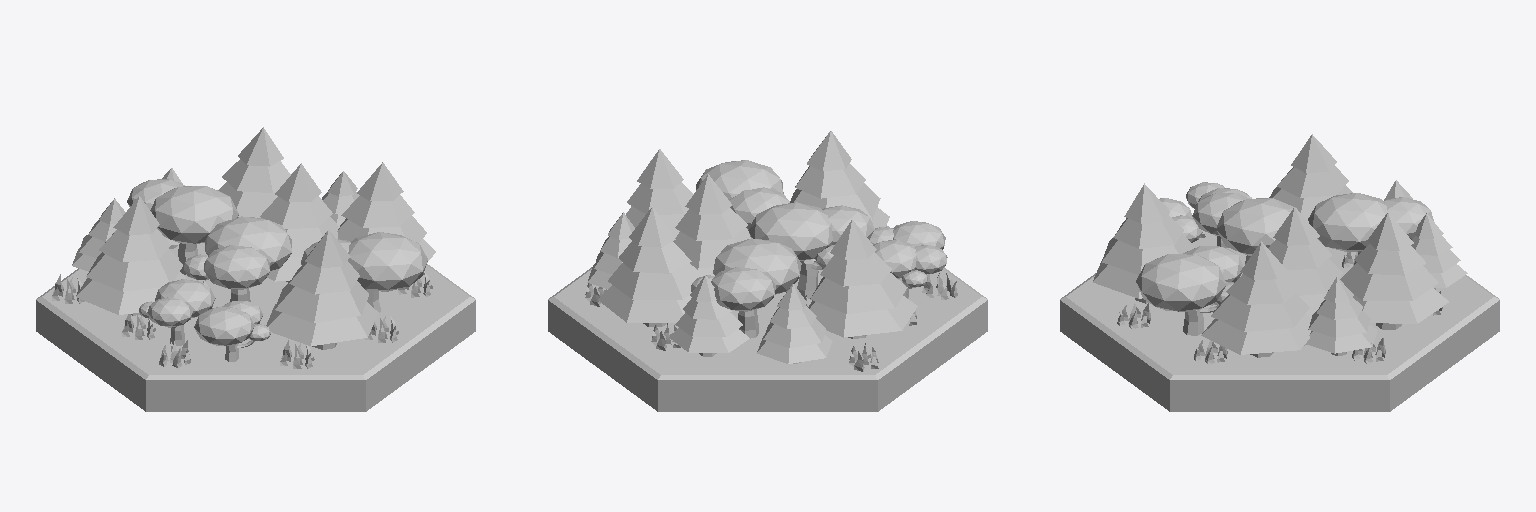
Rendered from forest2.obj.
The picture shows the model from 3 angles: view 1: azimuth 30°, elevation 25°; view 2: azimuth 150°, elevation 25°; view 3: azimuth 270°, elevation 25°; orthographic projection.
Parts seen in each view (by area): view 1: Forest_Tile, Tree_0_1.002, Tree_0_1.001, Tree_1_1.001, Tree_1_1, Tree_1_1.002, Tree_0_1.004, Tree_0_1.003, Tree_0_1, Tree_1_0.001, Tree_1_0, Tree_0_0.002 (+1 smaller); view 2: Forest_Tile, Tree_0_1.001, Tree_0_1, Tree_1_1, Tree_1_1.001, Tree_0_1.002, Tree_0_1.004, Tree_0_0.002, Tree_0_0.001, Tree_1_1.002, Tree_0_1.003, Tree_1_0 (+2 smaller); view 3: Forest_Tile, Tree_0_1.003, Tree_0_1, Tree_1_1.002, Tree_0_1.002, Tree_1_1, Tree_1_1.001, Tree_0_1.004, Tree_0_0, Tree_0_1.001, Tree_0_0.001, Tree_1_0.001 (+1 smaller).
Part boxes in pixels (x1,y1,x2,y2): Forest_Tile: (36,243,475,411); Tree_0_1.002: (266,230,378,349); Tree_0_1.001: (76,196,187,315); Tree_1_1.001: (184,216,291,301); Tree_1_1: (127,179,238,274); Tree_1_1.002: (301,232,427,312); Tree_0_1.004: (260,163,339,282); Tree_0_1.003: (337,162,435,262); Tree_0_1: (218,127,290,217); Tree_1_0.001: (194,301,270,361); Tree_1_0: (139,279,215,345); Tree_0_0.002: (72,198,125,271); Forest_Tile: (548,225,987,411); Tree_0_1.001: (808,220,917,338); Tree_0_1: (598,206,702,326); Tree_1_1: (691,238,801,338); Tree_1_1.001: (748,202,874,298); Tree_0_1.002: (790,131,889,228); Tree_0_1.004: (673,174,750,275); Tree_0_0.002: (757,284,832,363); Tree_0_0.001: (669,275,749,356); Tree_1_1.002: (696,160,789,229); Tree_0_1.003: (626,149,693,237); Tree_1_0: (873,240,947,298); Forest_Tile: (1060,231,1499,411); Tree_0_1.003: (1201,241,1310,357); Tree_0_1: (1340,212,1448,329); Tree_1_1.002: (1136,246,1242,335); Tree_0_1.002: (1093,183,1195,303); Tree_1_1: (1308,193,1433,254); Tree_1_1.001: (1192,193,1297,263); Tree_0_1.004: (1268,207,1342,317); Tree_0_0: (1306,277,1377,355); Tree_0_1.001: (1269,134,1352,221); Tree_0_0.001: (1411,213,1467,289); Tree_1_0.001: (1159,198,1202,242).
Size of the model in its own units: 1.75 by 0.7589 by 2.02.